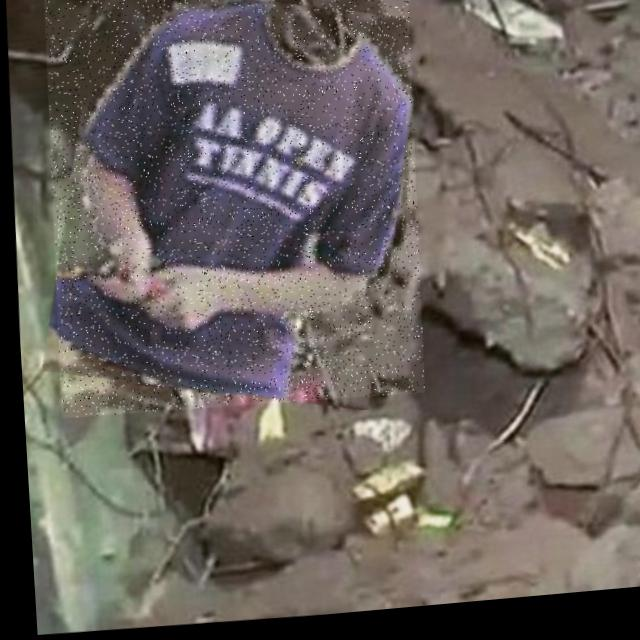Person in Rubble: (37, 0, 426, 425)
